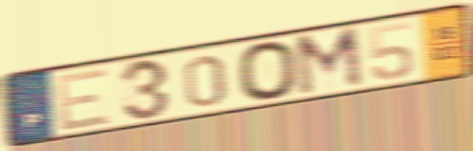0: (180, 53, 231, 109)
3: (117, 56, 172, 123)
5: (366, 18, 416, 82)
E: (53, 65, 114, 134)
M: (291, 23, 367, 100)
O: (234, 38, 302, 103)
